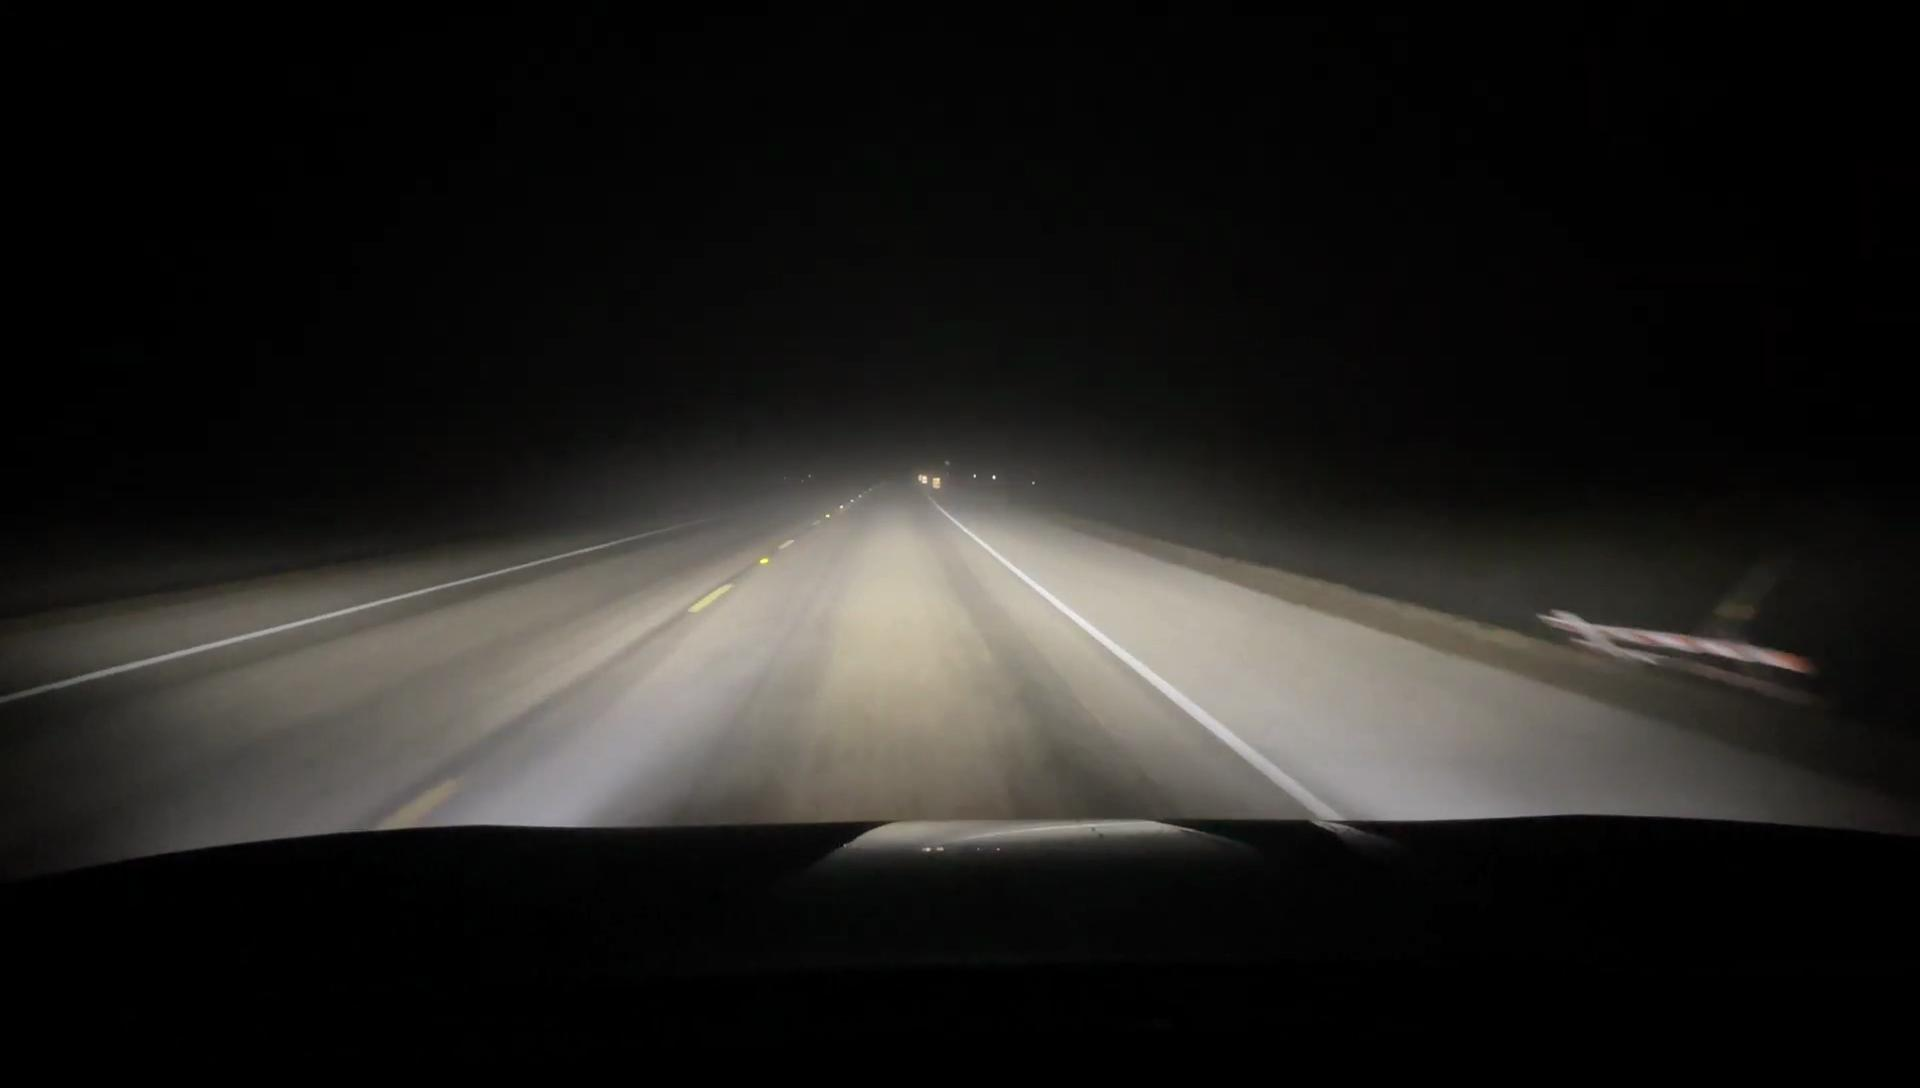road-lanes: (430, 488, 1332, 815)
